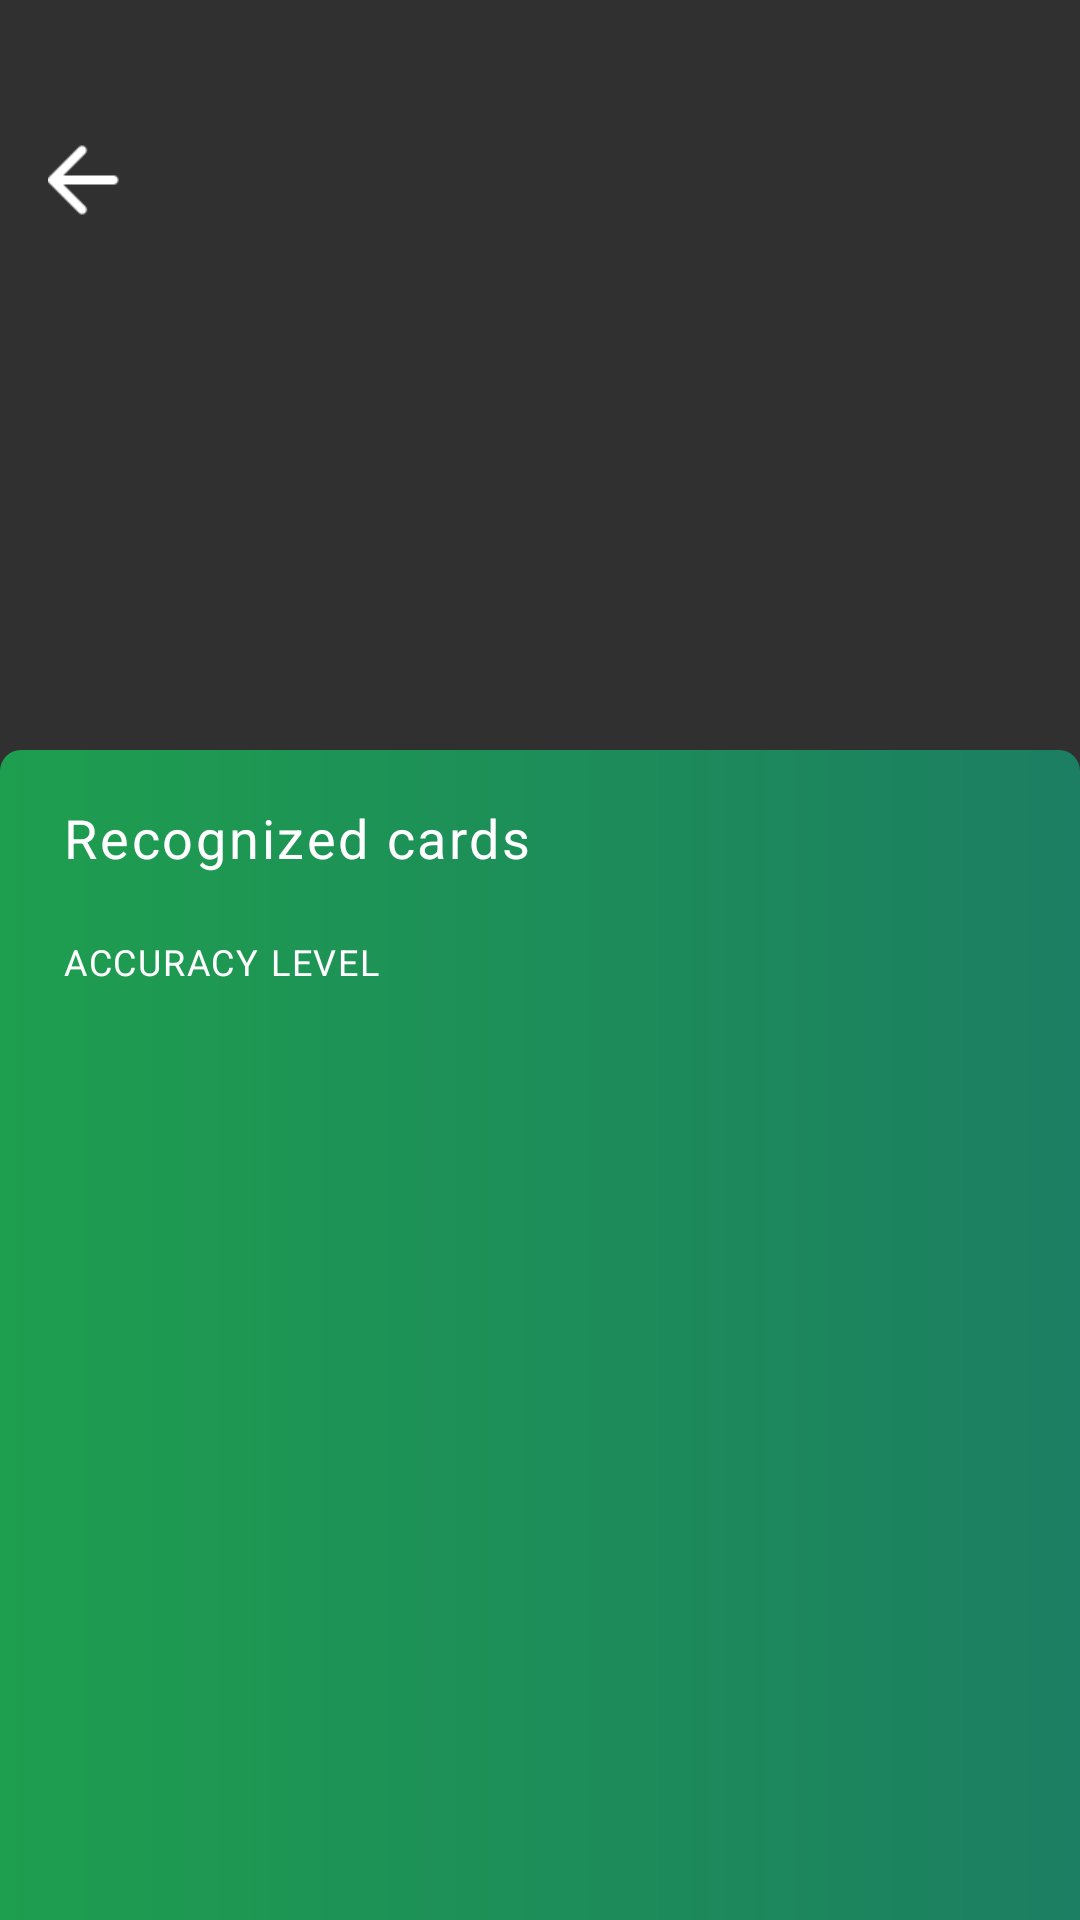

Icons on this 1080×1920 Android screen, each with its box as {"x1": x1, "y1": y1, "x2": x2, "y2": y2}:
back: {"x1": 48, "y1": 145, "x2": 119, "y2": 215}
